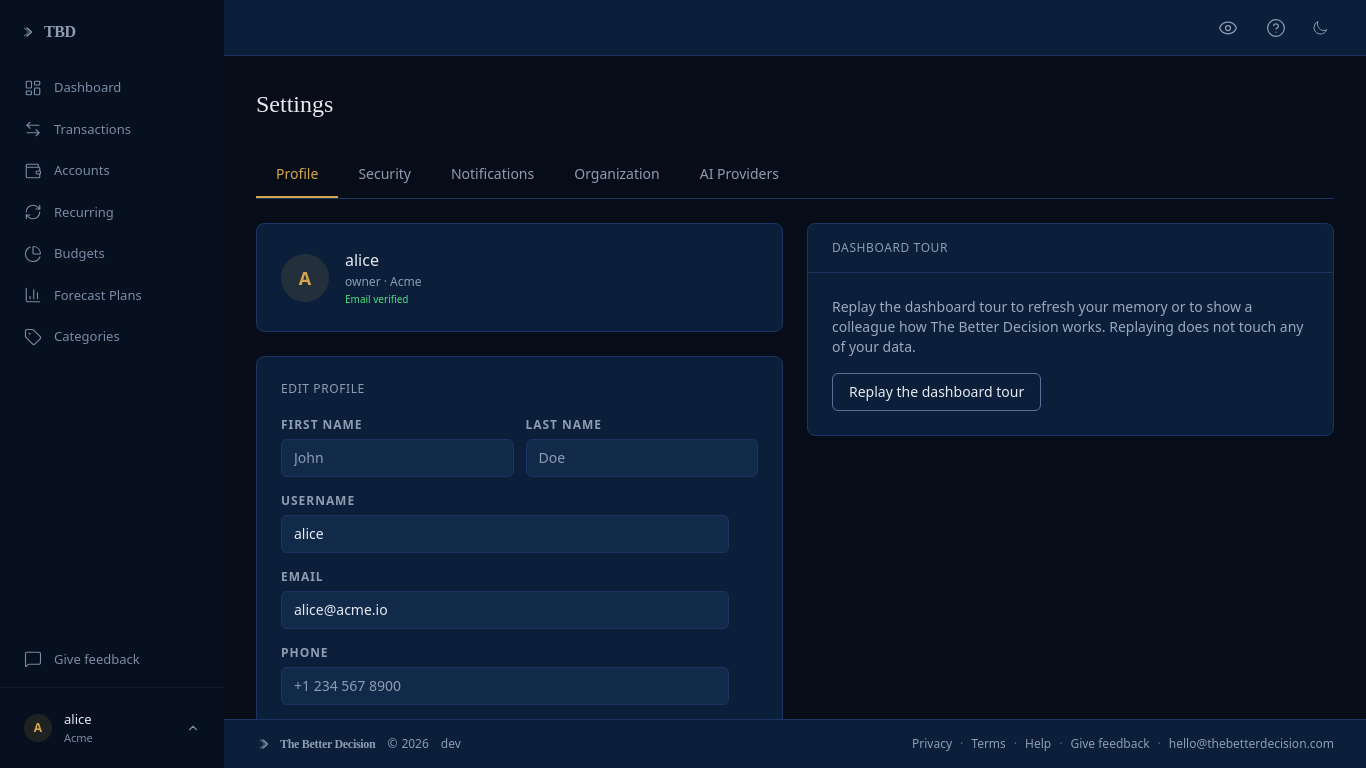
Test: Settings page — email change step-up token state hygiene › clears stepupToken on a step-up error so the UI stops claiming 'Google verified' (Finding 3)
This screenshot has width=1366, height=768.
Replace the text in the field labelled "Email" with "new@acme.io" at x=505, y=610, box [281,591,729,629]
(page scrolled)
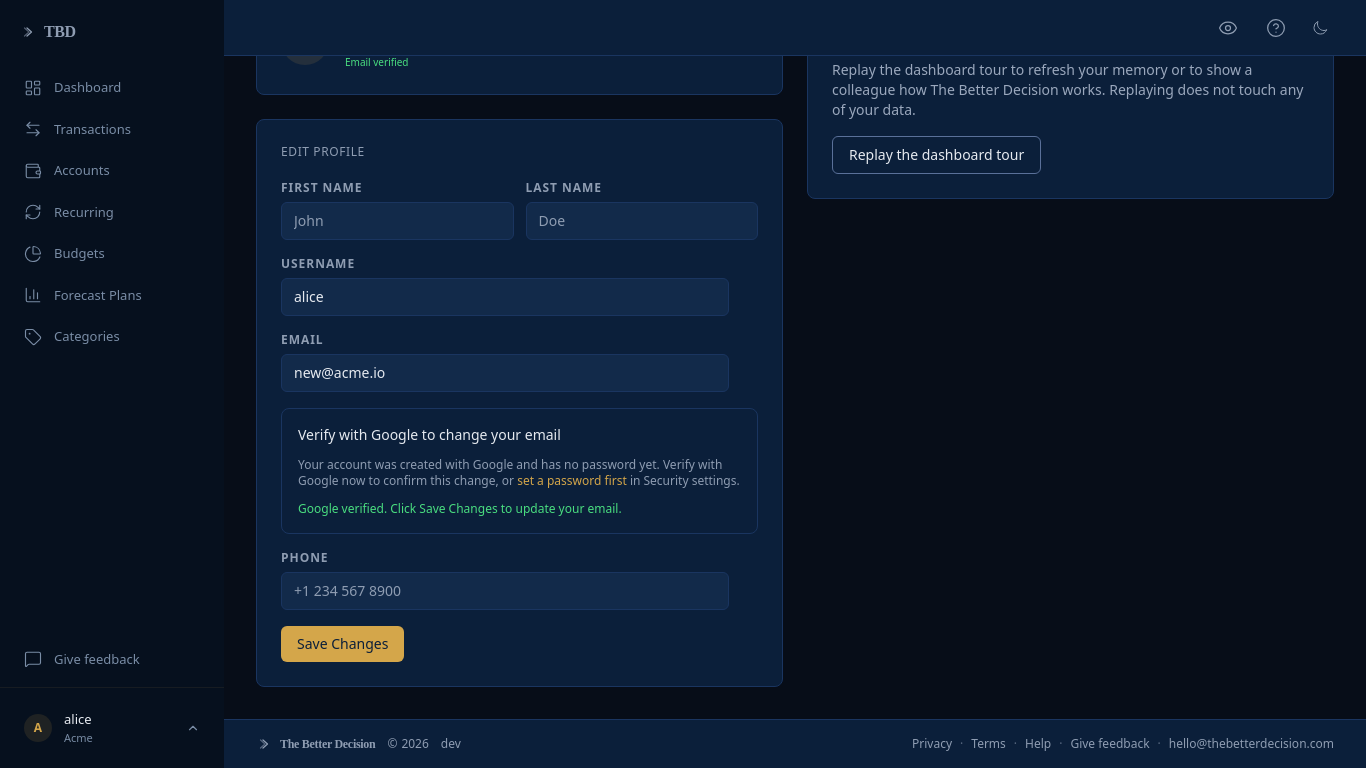
Now the text "Google verified. Click Save Changes to update your email." is shown, box [298,500,622,517]
Click the button "Save Changes" at x=343, y=644, box [281,626,404,662]
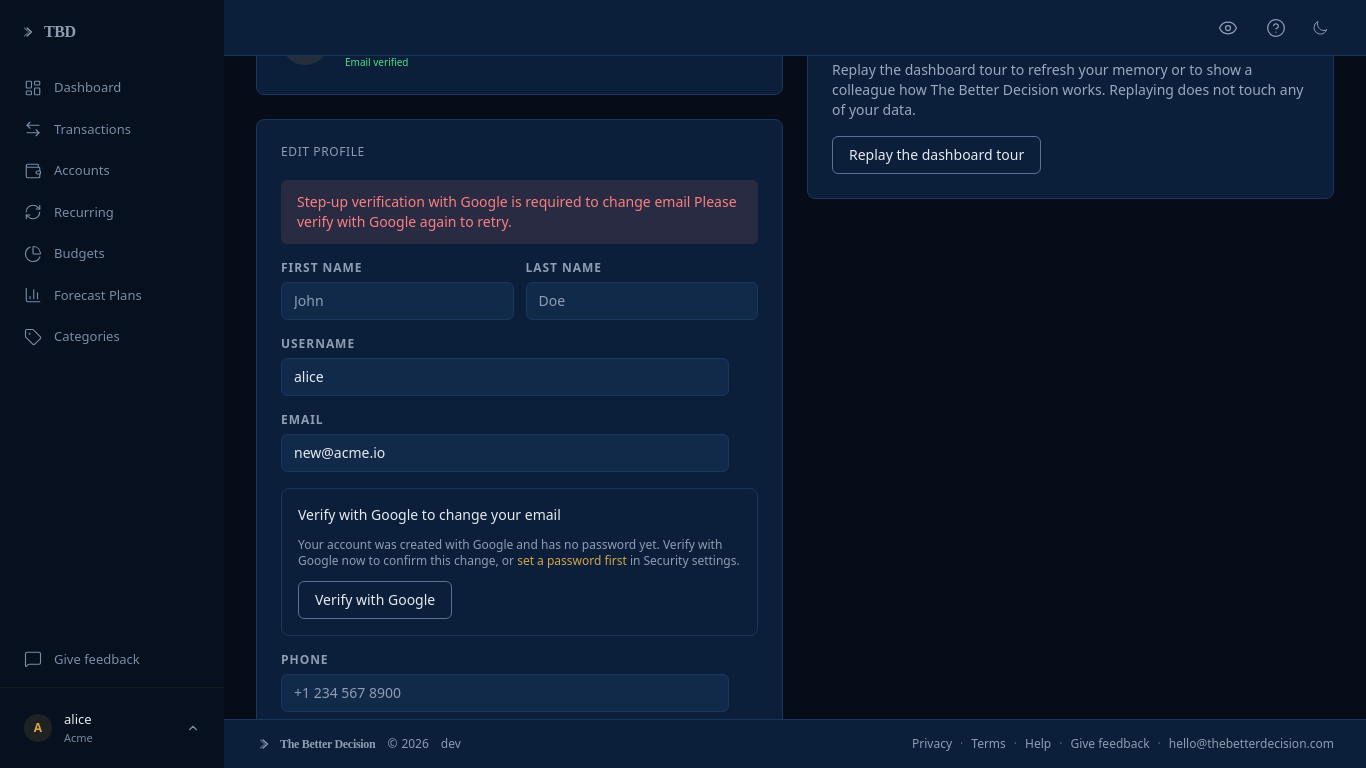
Now the text "Google verified" is gone
Now the button "Verify with Google" is shown, box [298,581,452,619]
